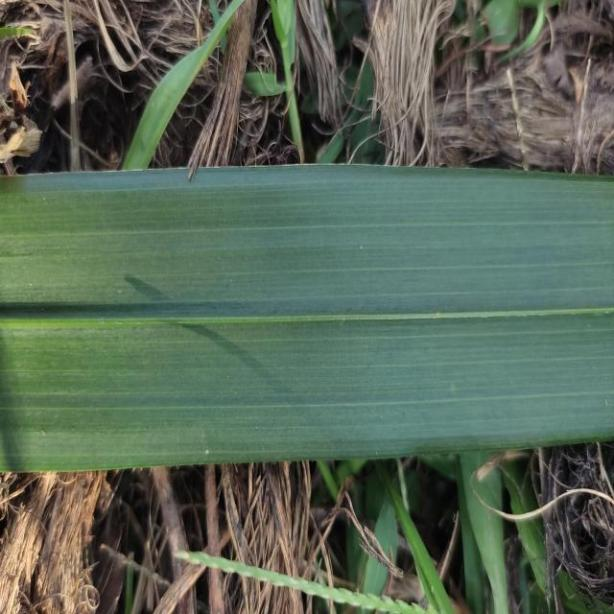Healthy: (0, 166, 614, 475)
